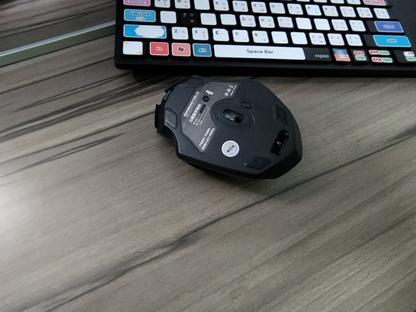mouse: (153, 73, 303, 180)
